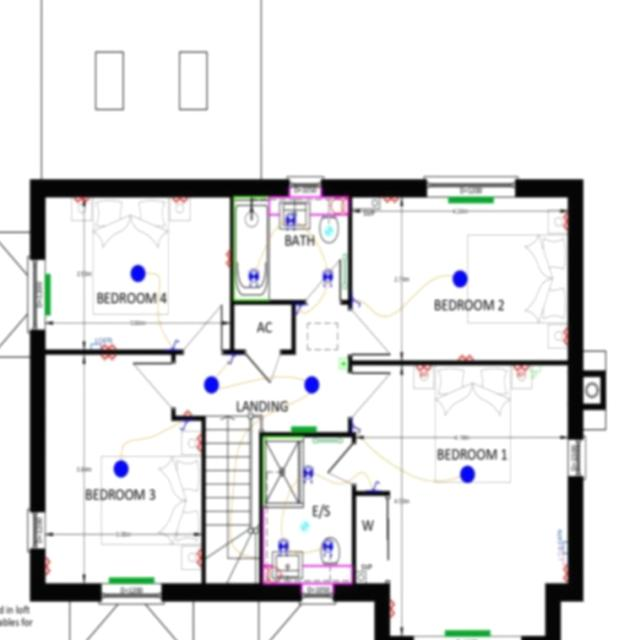Cat 6 Data Socket: (556, 528, 568, 553), (90, 337, 110, 349)
Ceiling Mounted Continuous Extract FanWith Boost Mode Activated By Light Switch: (324, 225, 333, 235), (300, 521, 308, 530)
Co-Ax TV Socket: (556, 548, 568, 563)
Double Socket: (388, 599, 396, 617), (72, 196, 90, 204), (382, 196, 398, 204), (194, 433, 201, 451), (562, 210, 568, 231), (194, 548, 201, 566), (100, 342, 115, 350), (44, 557, 51, 574), (223, 250, 230, 266), (560, 326, 566, 344), (100, 354, 115, 361), (458, 353, 472, 360), (560, 565, 566, 581), (172, 196, 188, 202)
Full Height Tiling: (232, 195, 270, 300), (262, 436, 302, 506)
Light Switch: (351, 297, 360, 308), (226, 354, 235, 364), (371, 480, 379, 490), (179, 420, 187, 430), (170, 338, 178, 348), (294, 304, 302, 314), (351, 424, 361, 432)
Low Energy Downlighter: (276, 538, 290, 555), (302, 464, 314, 483), (248, 268, 260, 287), (321, 538, 333, 556), (284, 212, 296, 230), (321, 269, 333, 287)
Low Energy Pendant Light: (203, 375, 218, 393), (113, 459, 128, 477), (452, 269, 467, 287), (459, 465, 474, 482), (130, 264, 144, 281), (304, 375, 318, 392)
Programmable Room Thermostat: (338, 357, 347, 368)
Radiator: (108, 576, 154, 584), (448, 196, 493, 203), (444, 630, 490, 636), (44, 273, 50, 315), (290, 426, 316, 432)
Shaver Socket: (262, 566, 283, 582), (327, 198, 348, 212)
Single Socket: (182, 408, 190, 414)
Telephone Socket: (530, 364, 542, 376)
USB Double Socket: (512, 364, 528, 376), (416, 364, 430, 376)
